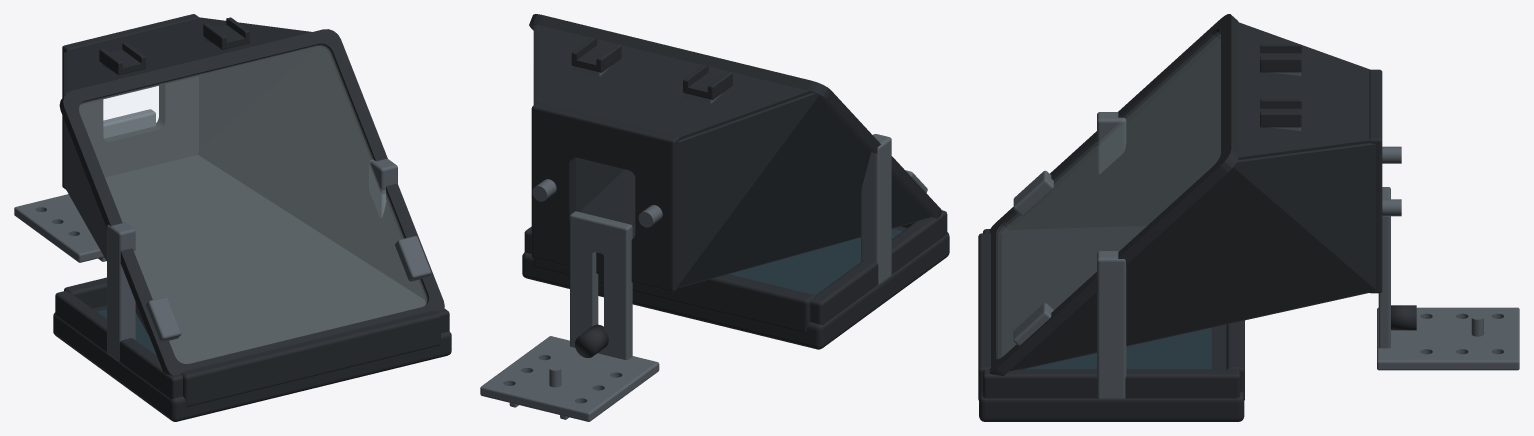
Rendered from full.fbx.
3 views of the same model, side by side, from view 1: azimuth 30°, elevation 25°; view 2: azimuth 150°, elevation 25°; view 3: azimuth 270°, elevation 25° (orthographic). The views are drawn at different scales.
Parts seen in each view (by area): view 1: Angled transparent panel, Hood lower return, Hood right wall, Angled glass border, Tray front rim, Rear camera aperture plate, Tray floor, Hood roof, Tray side rim -1, Camera shelf, Vertical tray support -1, Hood left wall (+8 smaller); view 2: Hood left wall, Rear camera aperture plate, Hood roof, Camera shelf, Slotted vertical camera bracket, Tray floor, Tray rear rim, Angled glass border, Tray side rim -1, Blank recessed screen, Vertical tray support -1, Hood lower return (+4 smaller); view 3: Hood right wall, Angled transparent panel, Hood left wall, Hood roof, Angled glass border, Hood lower return, Camera shelf, Tray floor, Tray side rim 1, Vertical tray support 1, Blank recessed screen, Rear camera aperture plate (+9 smaller).
Boxes of the visible parts, <box> form: Angled transparent panel: <box>79,45,426,363</box>; Hood lower return: <box>105,155,425,363</box>; Hood right wall: <box>198,47,424,299</box>; Angled glass border: <box>59,29,444,375</box>; Tray front rim: <box>181,310,440,406</box>; Rear camera aperture plate: <box>62,14,199,189</box>; Tray floor: <box>53,305,451,421</box>; Hood roof: <box>66,17,311,92</box>; Tray side rim -1: <box>55,290,182,399</box>; Camera shelf: <box>14,194,103,262</box>; Vertical tray support -1: <box>107,221,135,361</box>; Hood left wall: <box>64,52,148,335</box>; Hood left wall: <box>677,92,930,287</box>; Rear camera aperture plate: <box>531,102,679,292</box>; Hood roof: <box>536,24,812,139</box>; Camera shelf: <box>480,336,659,421</box>; Slotted vertical camera bracket: <box>570,211,632,360</box>; Tray floor: <box>522,226,949,349</box>; Tray rear rim: <box>533,258,814,333</box>; Angled glass border: <box>529,14,941,218</box>; Tray side rim -1: <box>810,210,947,324</box>; Blank recessed screen: <box>729,228,902,295</box>; Vertical tray support -1: <box>861,134,891,284</box>; Hood lower return: <box>580,169,919,287</box>; Hood right wall: <box>1009,143,1375,371</box>; Angled transparent panel: <box>1001,33,1220,356</box>; Hood left wall: <box>1010,39,1220,229</box>; Hood roof: <box>1238,22,1371,160</box>; Angled glass border: <box>989,14,1238,375</box>; Hood lower return: <box>999,225,1369,369</box>; Camera shelf: <box>1377,307,1519,370</box>; Tray floor: <box>979,324,1244,421</box>; Tray side rim 1: <box>983,369,1240,398</box>; Vertical tray support 1: <box>1097,251,1126,399</box>; Blank recessed screen: <box>1024,328,1211,369</box>; Rear camera aperture plate: <box>1369,69,1382,293</box>.
Size of the model in its own units: 22.7 by 19.3 by 34.9.
